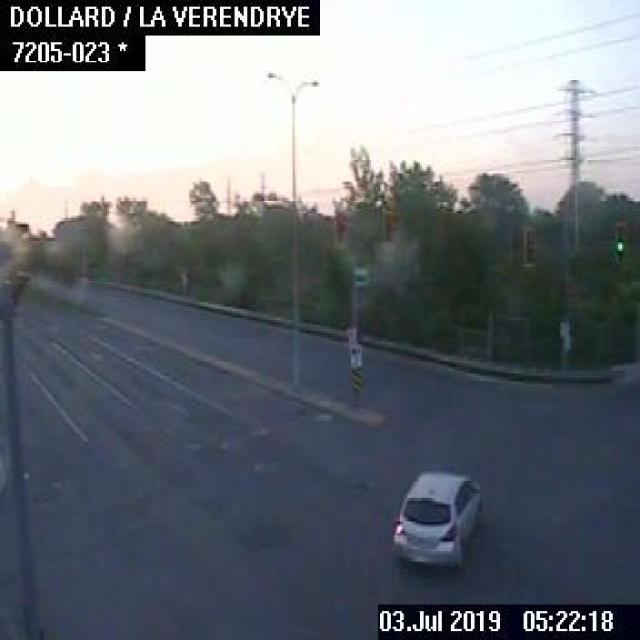vehicle: (391, 464, 482, 569)
